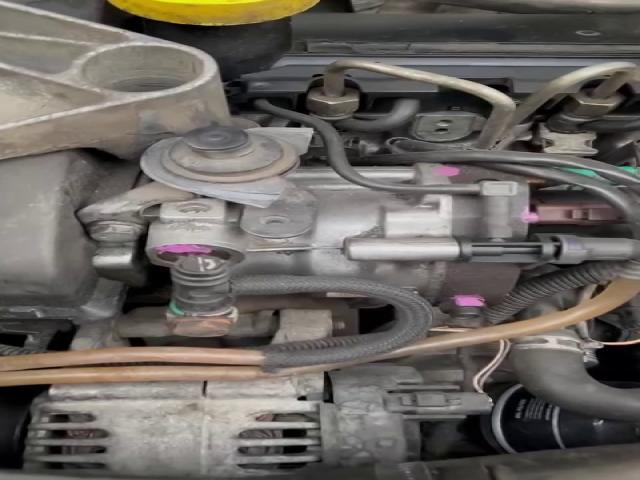alternator: (24, 374, 325, 476)
high_pressure_pump: (146, 167, 638, 318), (358, 164, 515, 182)
